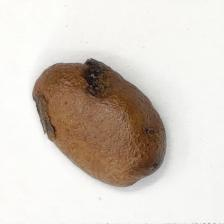NG: (72, 56, 111, 100), (31, 87, 59, 143)
